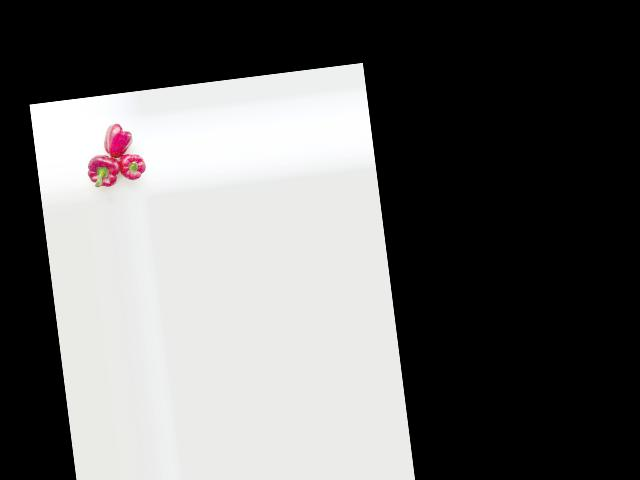bell_pepper: (98, 117, 140, 160)
